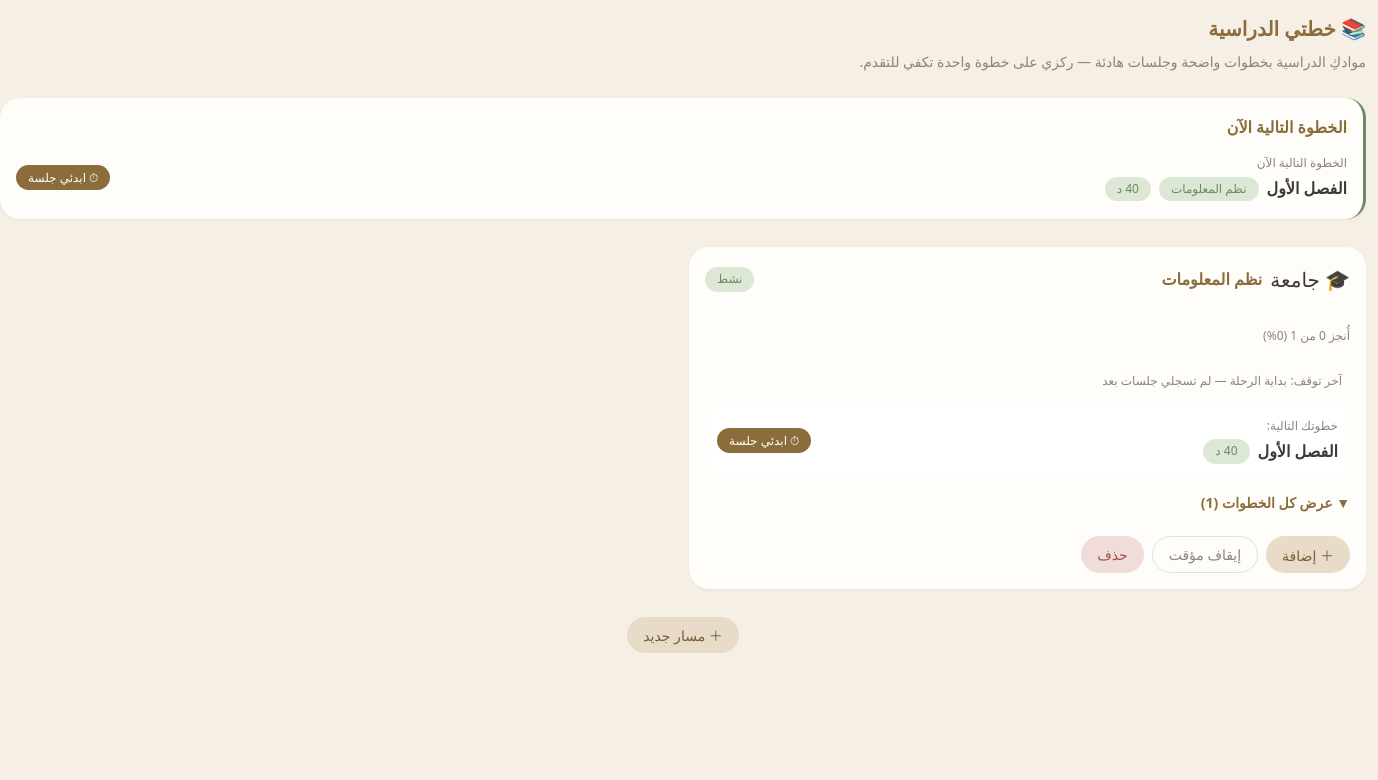
Test: MyPlanPage UI — خطتي › الضغط على «ابدئي جلسة» يطلق الجلسة في useActiveTaskStore
The width and height of the screenshot is (1378, 780).
# الزر في البطاقة (ليس في البانر العالمي للخطوة الآن)
Click the button "⏱ ابدئي جلسة" in the row of "خطوتك التالية:" at (764, 440), box top-left (717, 428), bottom-right (812, 453)
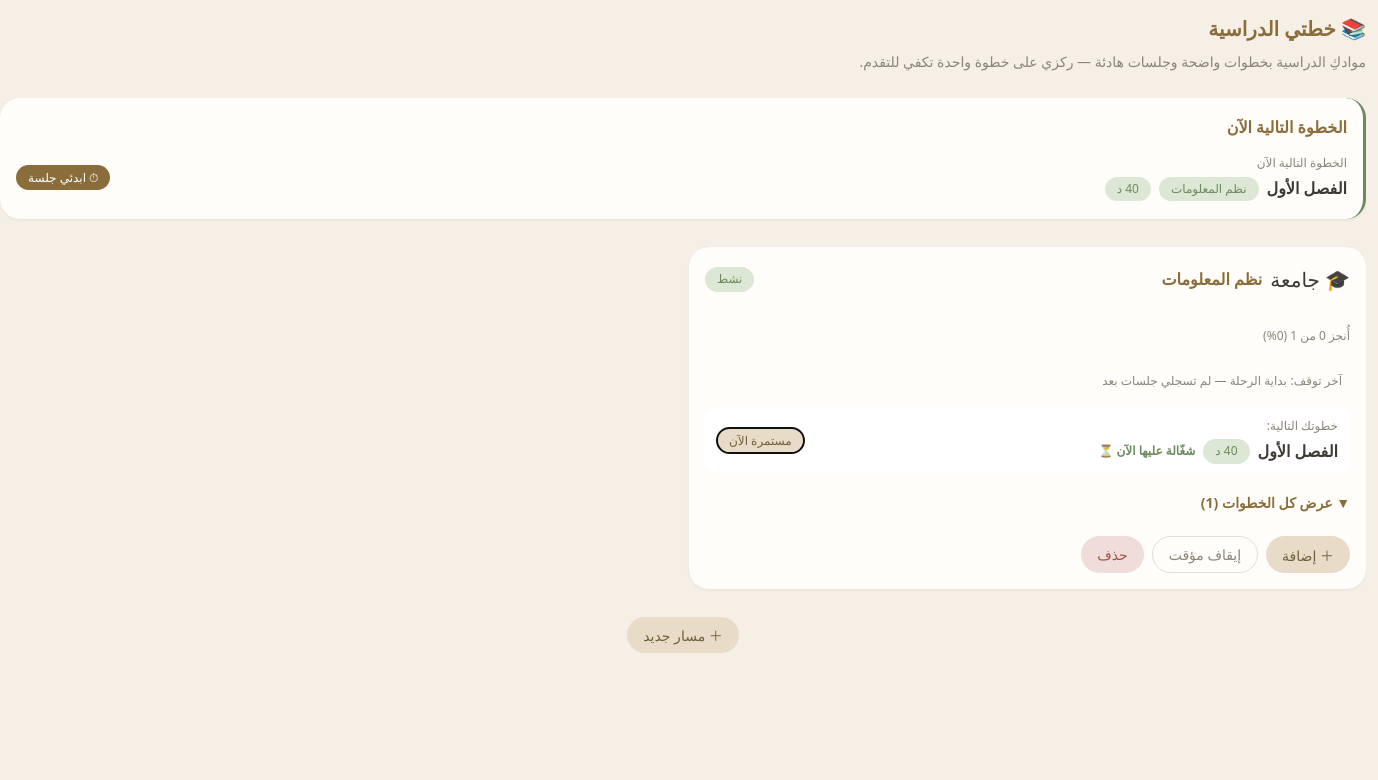
Expected: the 1st text "الفصل الأول" is shown, top-left (1266, 175), bottom-right (1347, 203)
Result: the text "شغّالة عليها الآن ⏳" is shown at top-left (1098, 441), bottom-right (1195, 462)
